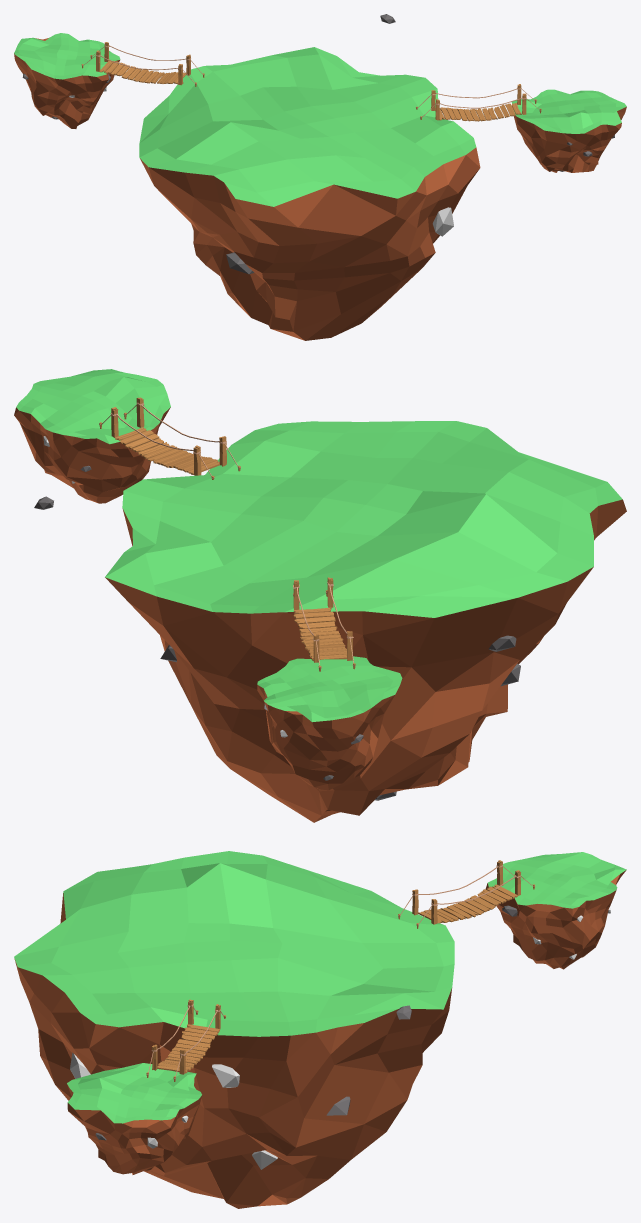
Rendered from insel.fbx.
The picture shows the model from 3 angles, top to bottom: view 1: azimuth 30°, elevation 25°; view 2: azimuth 150°, elevation 25°; view 3: azimuth 270°, elevation 25°; orthographic projection. The views are drawn at different scales.
Parts seen in each view (by area): view 1: Cube.002, Cube.001, Cube; view 2: Cube.002, Cube.001, Cube; view 3: Cube.002, Cube.001, Cube.
Part boxes in pixels (left/top/right/bottom): Cube.002: left=139, top=47, right=480, bottom=340; Cube.001: left=511, top=89, right=626, bottom=172; Cube: left=14, top=33, right=120, bottom=128; Cube.002: left=105, top=421, right=626, bottom=822; Cube.001: left=14, top=369, right=170, bottom=503; Cube: left=257, top=656, right=402, bottom=790; Cube.002: left=14, top=851, right=454, bottom=1208; Cube.001: left=67, top=1063, right=201, bottom=1174; Cube: left=485, top=852, right=626, bottom=969.
Size of the model in its own units: 1406 by 712 by 1400.
